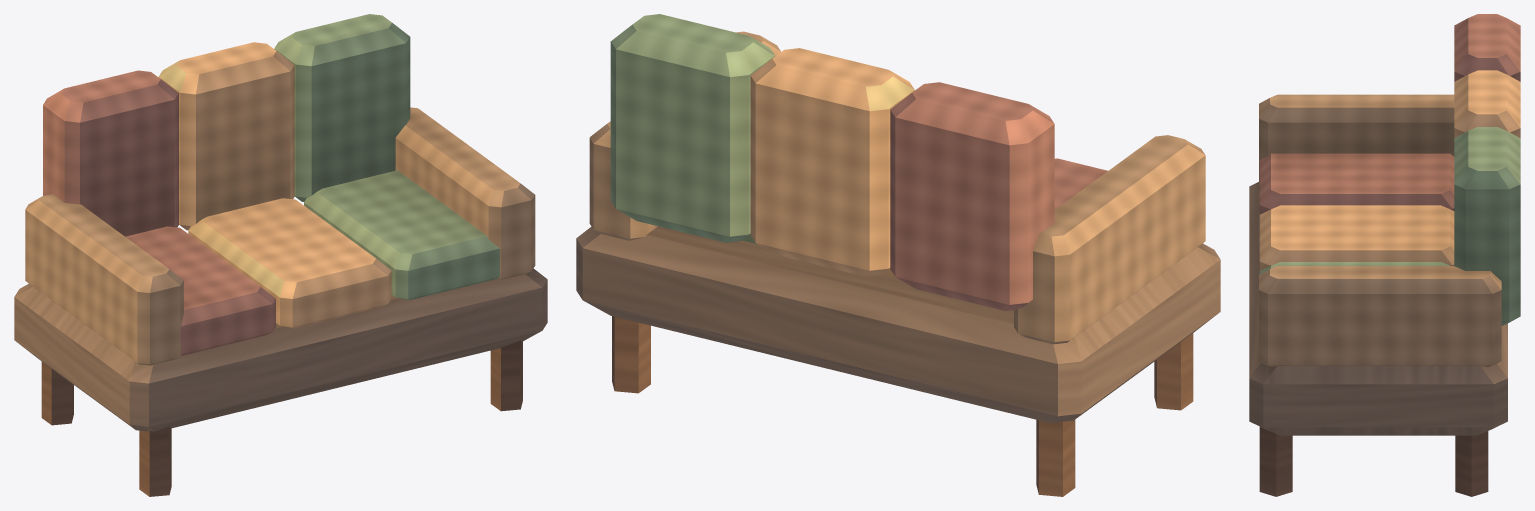
File: furniture_sofa.glb
3 renders of one model, left to right at view 1: azimuth 30°, elevation 25°; view 2: azimuth 150°, elevation 25°; view 3: azimuth 270°, elevation 25°, orthographic. The views are drawn at different scales.
Visible parts, largest first — view 1: Patchworksofa; view 2: Patchworksofa; view 3: Patchworksofa.
Part boxes in pixels (x1,y1,x2,y2): Patchworksofa: (14, 14, 547, 496); Patchworksofa: (576, 14, 1220, 496); Patchworksofa: (1249, 14, 1520, 496).
Bounding box in the file's own units: 1.53 × 1.09 × 0.86.
2 materials, 2 textured.
